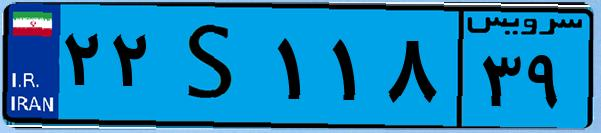1: (270, 28, 330, 110), (330, 28, 385, 110)
2: (57, 26, 110, 100), (110, 28, 158, 98)
3: (475, 38, 525, 113)
8: (385, 28, 445, 110)
9: (525, 38, 570, 115)
S: (158, 12, 270, 120)
